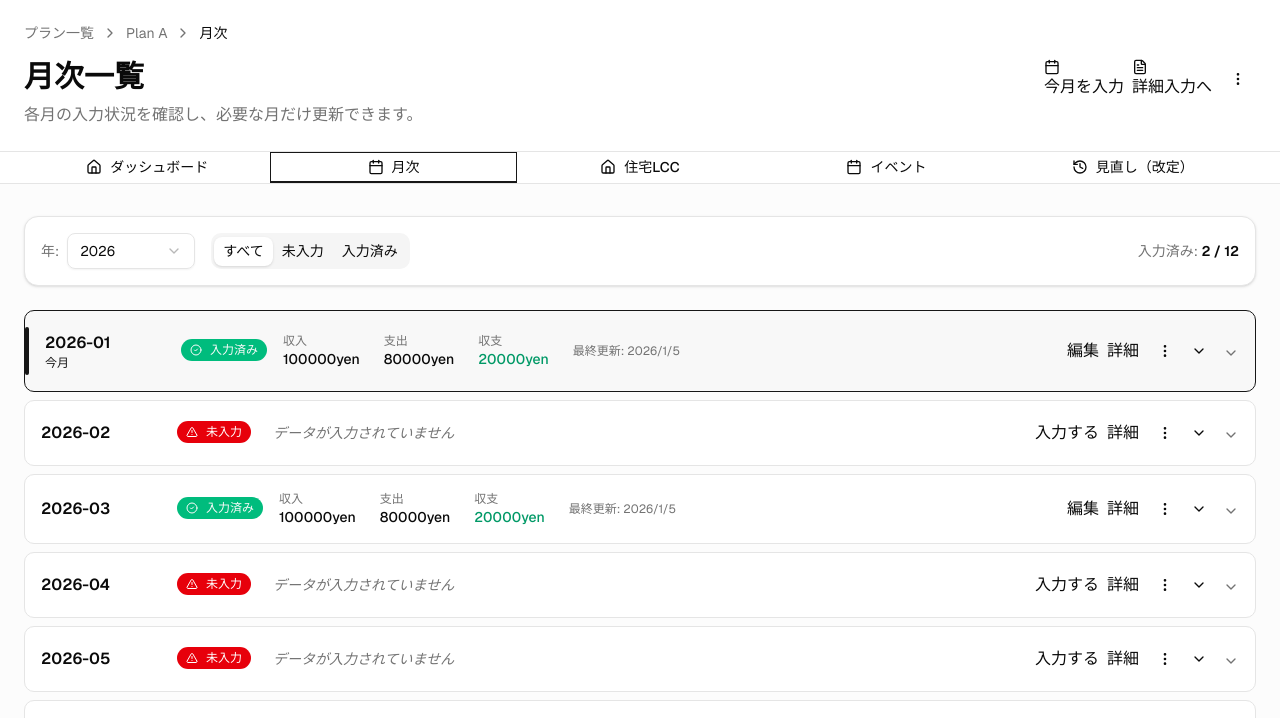
Test: MonthlyListPage › switches year selection and reloads records
The width and height of the screenshot is (1280, 718).
Check: the link "Plan A" is shown, box [126,23,168,43]
Step 1. Click the dropdown → coordinates (131, 251), box [67,233,195,269]
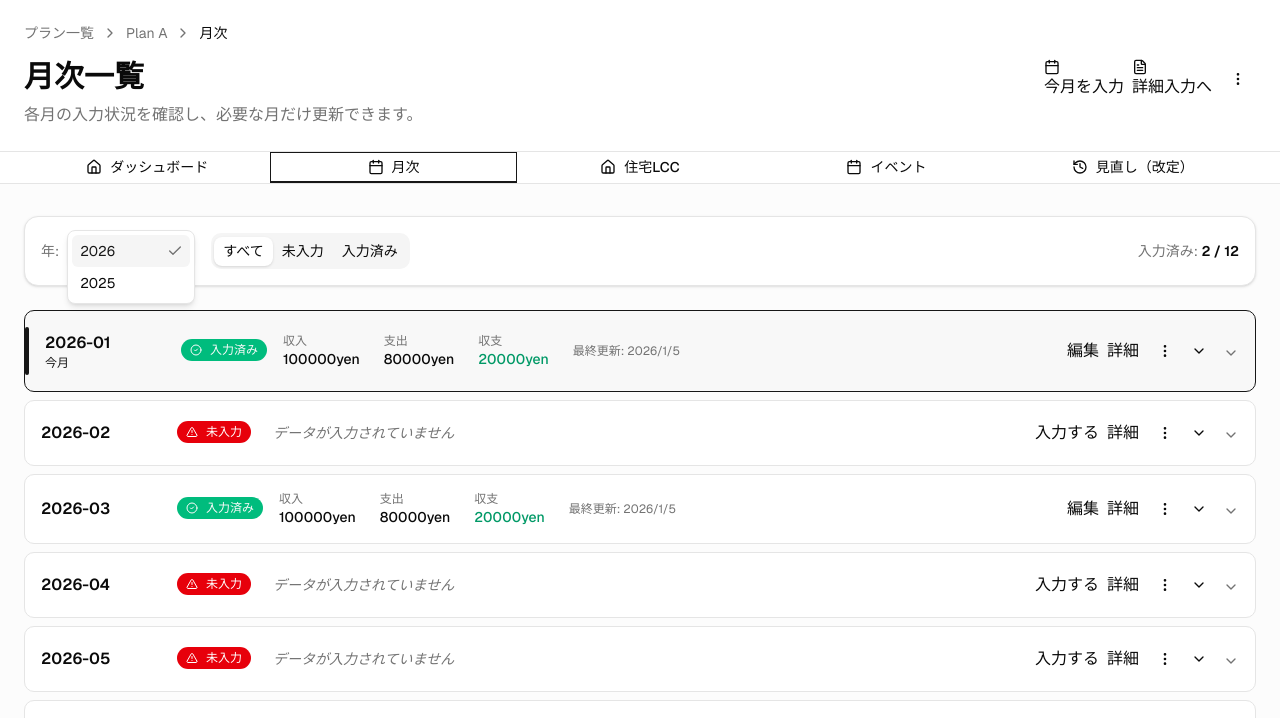
Step 2. Click the option "2025" → coordinates (98, 283), box [80,274,116,292]
(page scrolled)
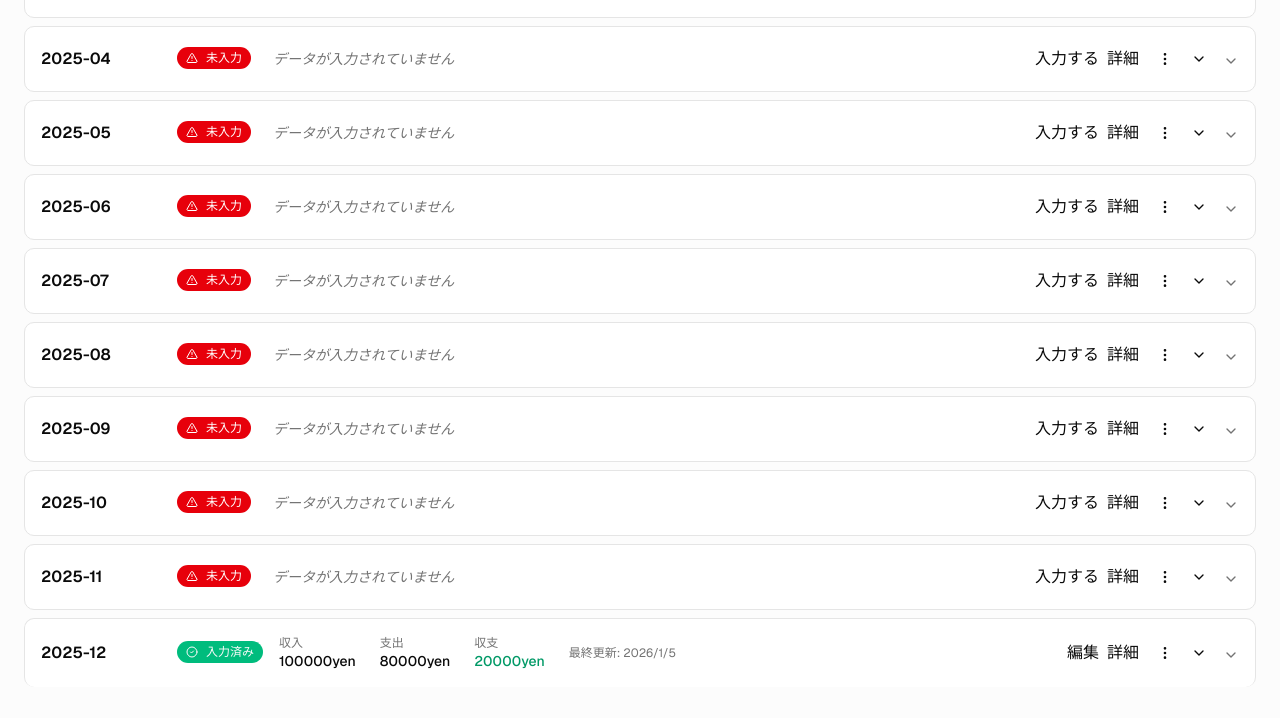
Check: the text "2025-12" is shown, box [41,642,106,663]
